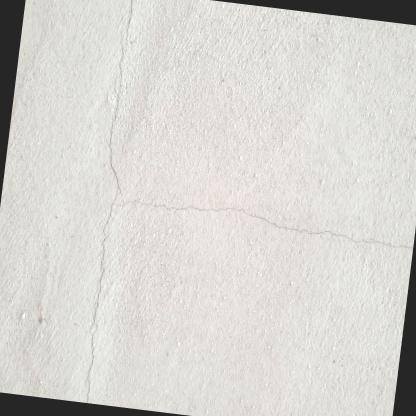crack: (82, 0, 414, 403)
